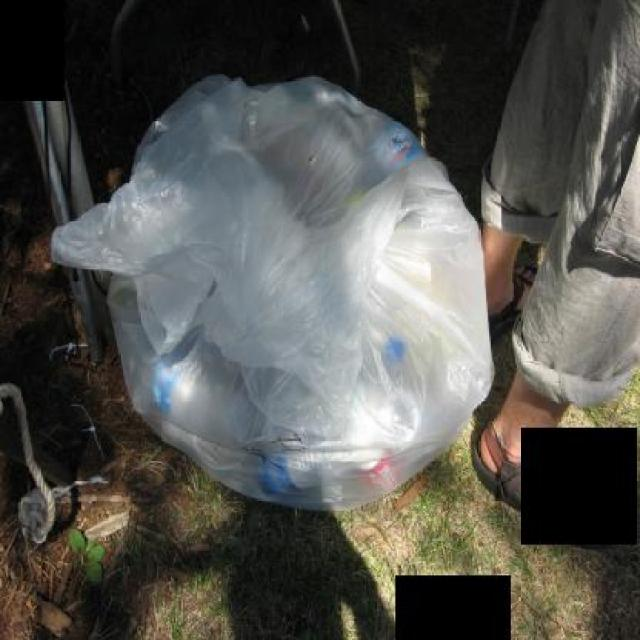plastic bag: (48, 70, 498, 516)
